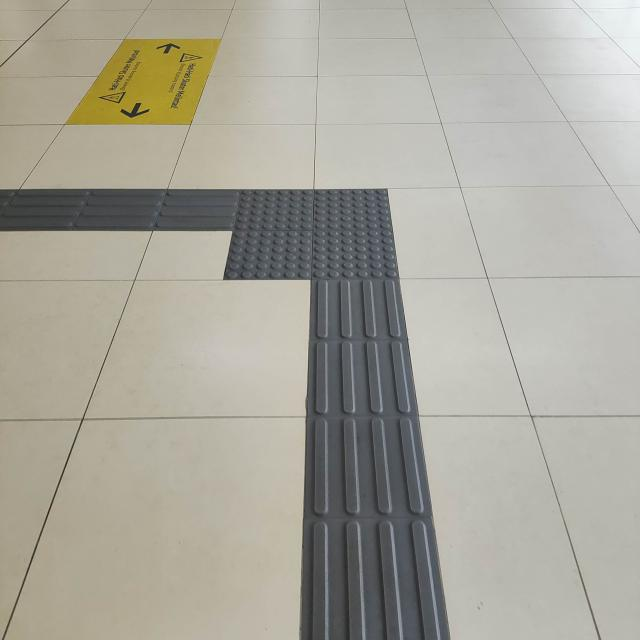kiri: (106, 155, 434, 310)
